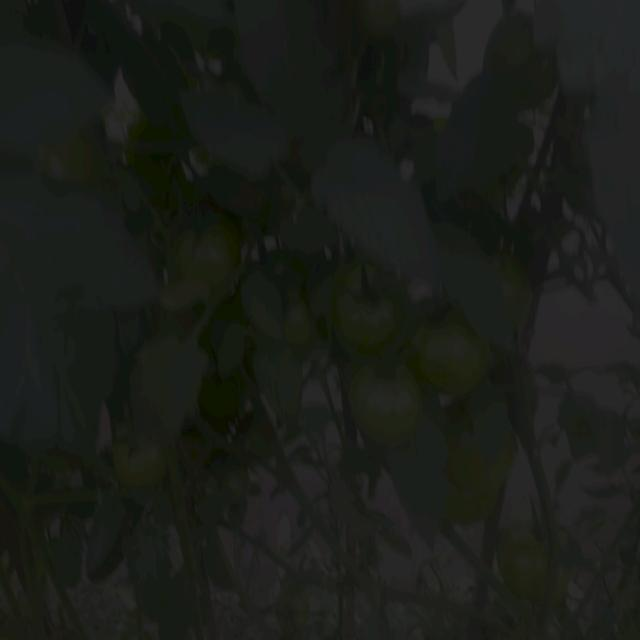tomato: (348, 357, 429, 444), (417, 314, 489, 397), (355, 1, 483, 45), (337, 282, 404, 349), (185, 226, 246, 293), (115, 422, 169, 494), (462, 435, 526, 487), (500, 527, 550, 592), (48, 135, 109, 188), (448, 481, 503, 533), (495, 10, 534, 72), (512, 356, 539, 435), (500, 254, 533, 314), (282, 296, 318, 345)
